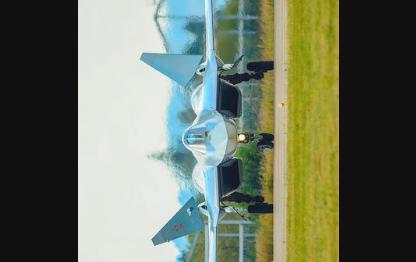SR71: (137, 0, 273, 261)
